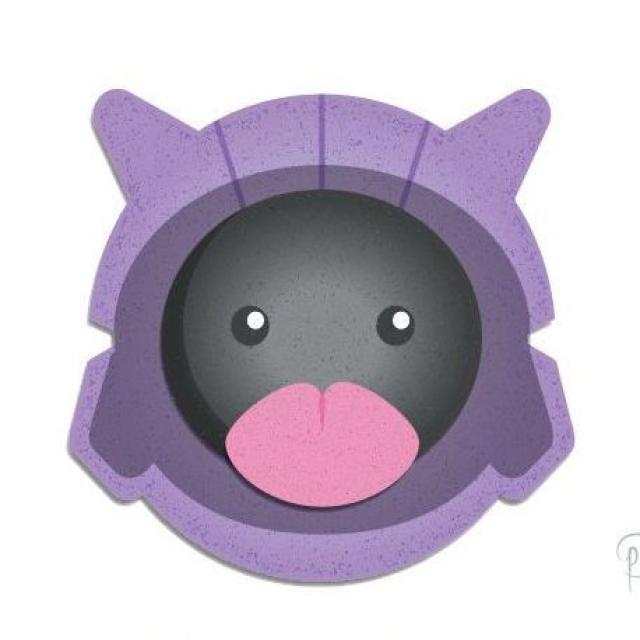Shellder: (71, 83, 561, 586)
